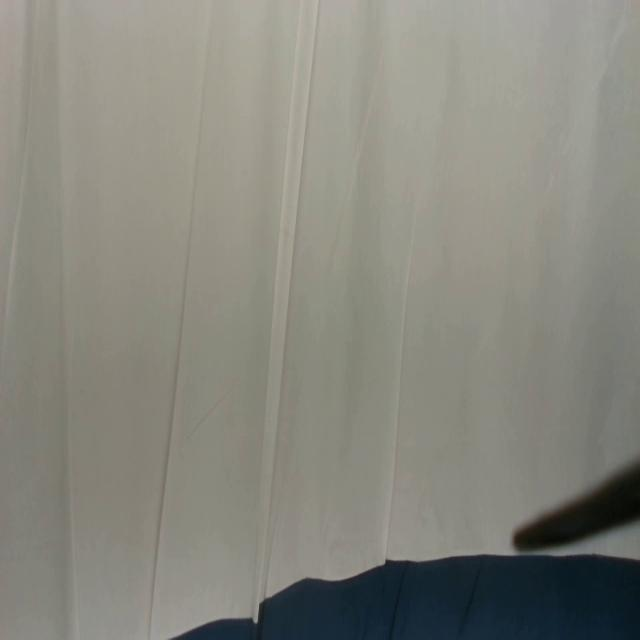crease: (250, 3, 322, 611), (147, 49, 210, 640), (383, 200, 420, 564), (1, 3, 40, 344)
